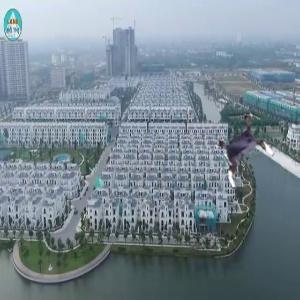drone: (208, 116, 278, 186)
